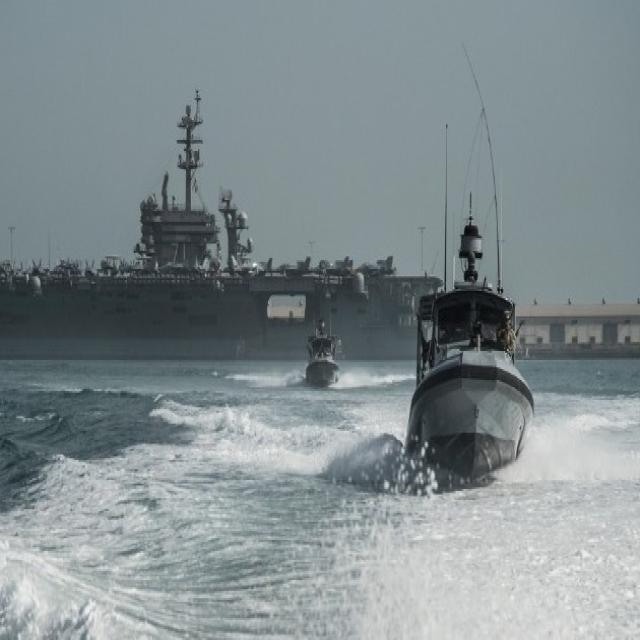navalvessels: (0, 100, 467, 369), (394, 157, 530, 491), (297, 317, 343, 387)
